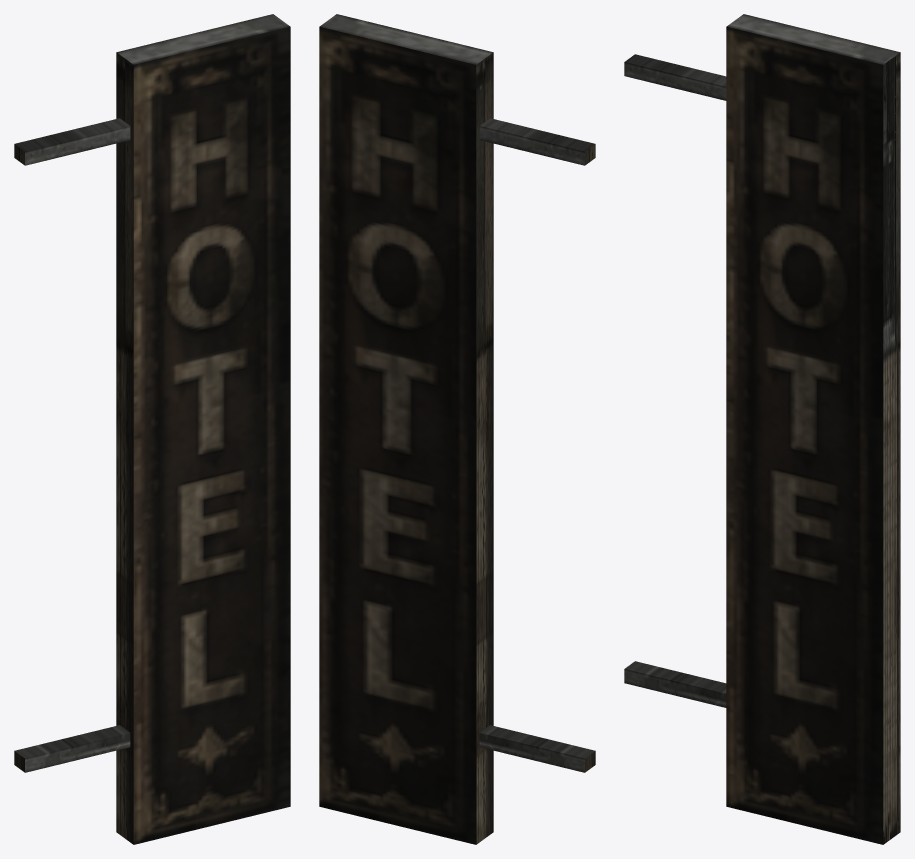
The model's file is HotelSign.fbx.
3 renders of one model, left to right at view 1: azimuth 30°, elevation 25°; view 2: azimuth 150°, elevation 25°; view 3: azimuth 330°, elevation 25°, orthographic.
Parts seen in each view (by area): view 1: HotelSign; view 2: HotelSign; view 3: HotelSign.
Boxes of the visible parts, x1=… form: HotelSign: x1=14, y1=14, x2=290, y2=844; HotelSign: x1=319, y1=14, x2=595, y2=844; HotelSign: x1=624, y1=14, x2=900, y2=844.
Size of the model in its own units: 0.614 by 1.75 by 0.0701.
